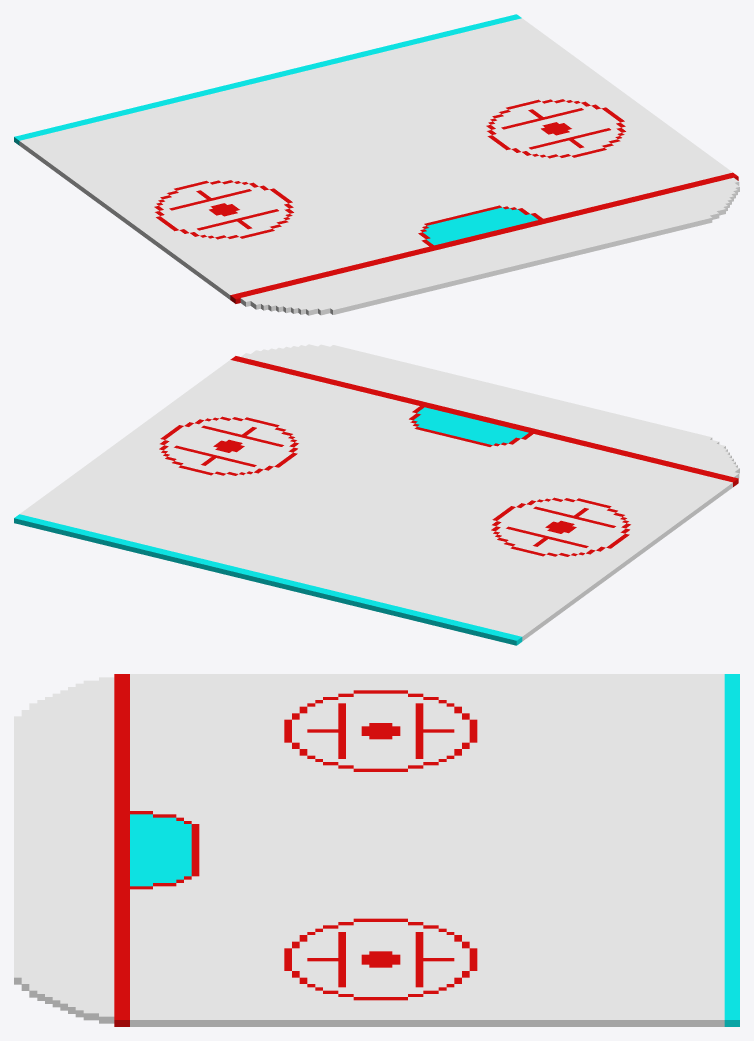
The model's file is HockyRinkcrease.obj.
3 renders of one model, top to bottom at view 1: azimuth 30°, elevation 25°; view 2: azimuth 150°, elevation 25°; view 3: azimuth 270°, elevation 25°, orthographic. The views are drawn at different scales.
Bounding box in the file's own units: 106 × 1 × 94.
Materials: 1 (1 with a texture image).
